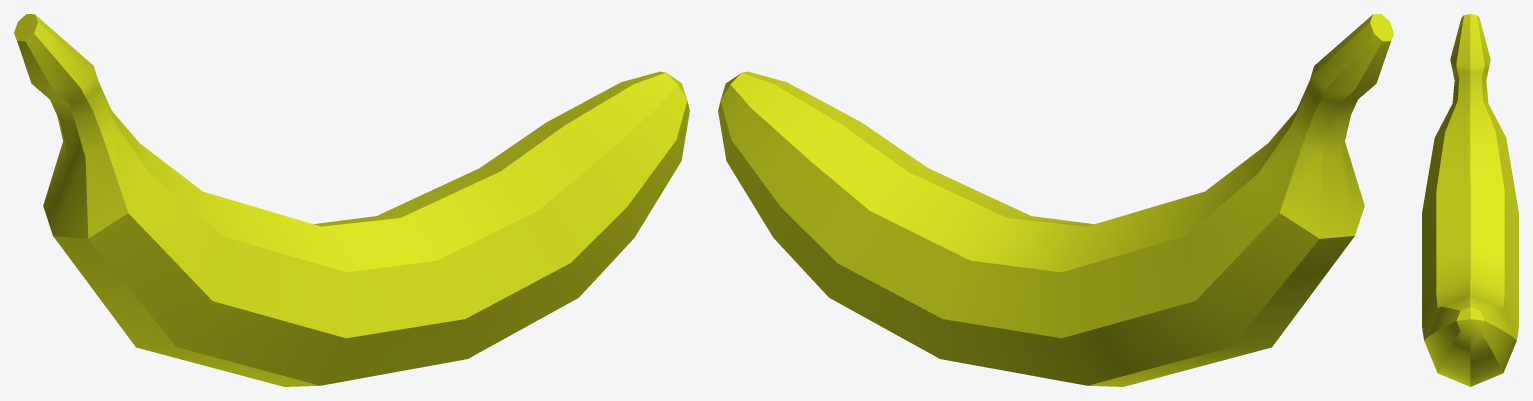
The model's file is Banana.fbx.
The picture shows the model from 3 angles, left to right: view 1: azimuth 30°, elevation 25°; view 2: azimuth 150°, elevation 25°; view 3: azimuth 270°, elevation 25°; orthographic projection. The views are drawn at different scales.
Parts seen in each view (by area): view 1: Cylinder.001; view 2: Cylinder.001; view 3: Cylinder.001.
Part boxes in pixels (x1=…): Cylinder.001: x1=14, y1=14, x2=689, y2=386; Cylinder.001: x1=718, y1=14, x2=1393, y2=386; Cylinder.001: x1=1422, y1=14, x2=1518, y2=386.
Size of the model in its own units: 85.76 by 54.42 by 19.21.
